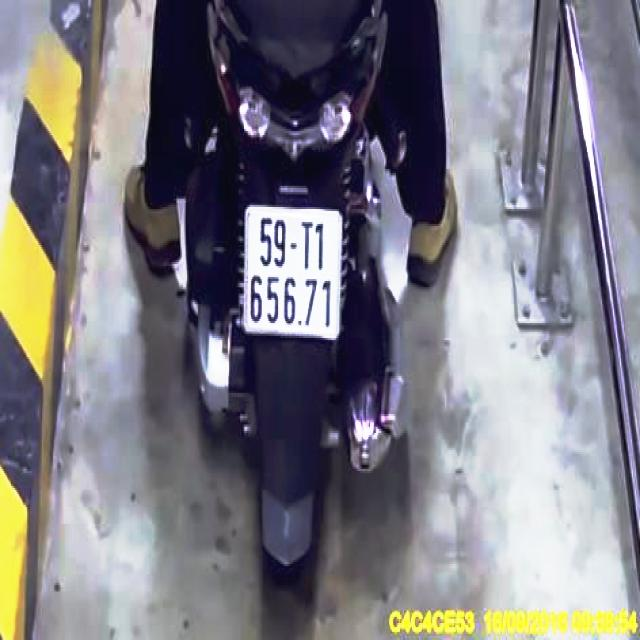license_plate: (245, 211, 344, 346)
